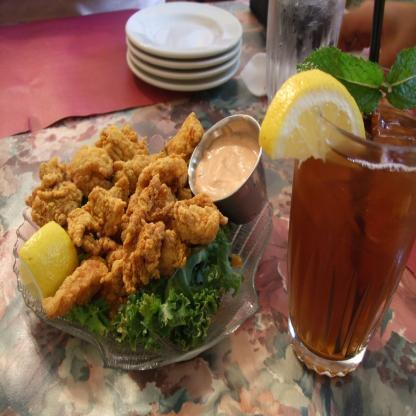lemon: (258, 68, 366, 158), (19, 220, 79, 302)
